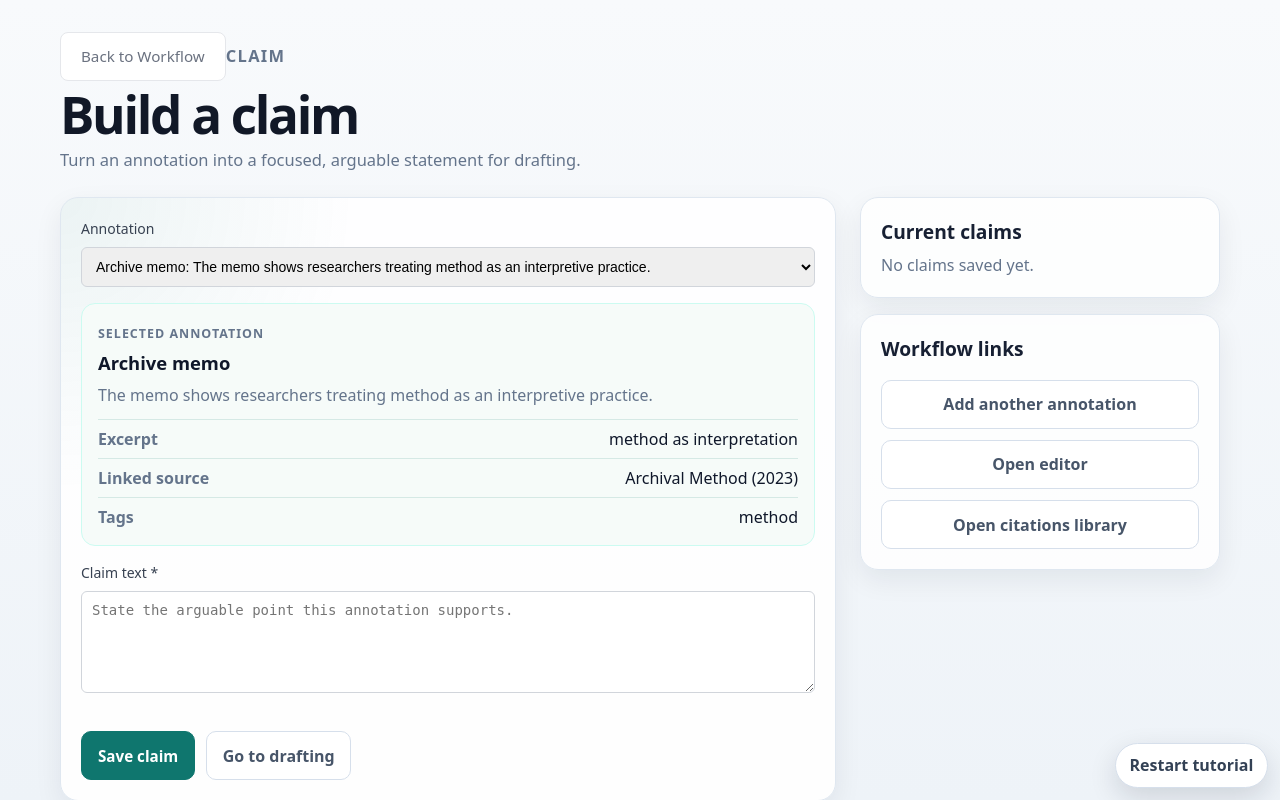
creates and persists a claim linked to an annotation
Type "Archival method depends on interpretation rather than neutral collection." into the text box labelled "Claim text *" at (448, 642), box [81, 592, 815, 694]
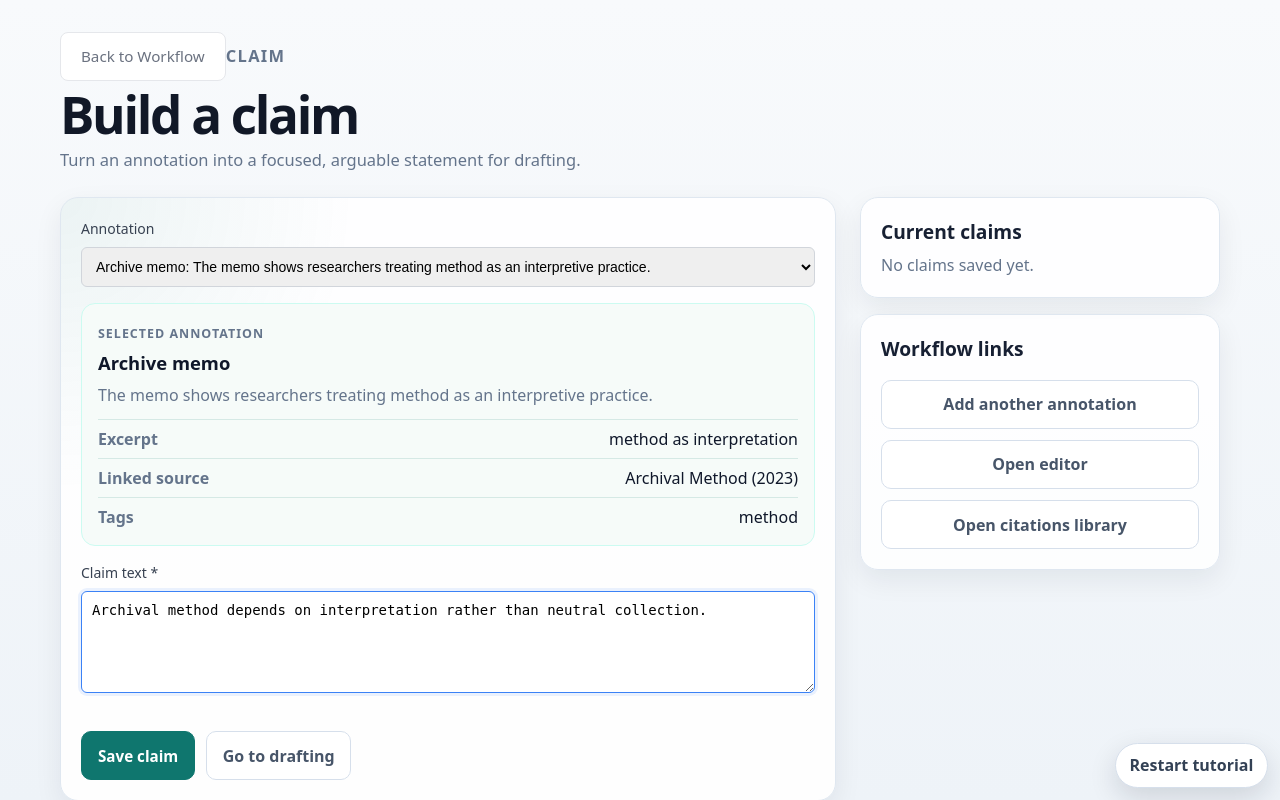
Click the button "Save claim" at (138, 756), box [81, 732, 195, 780]
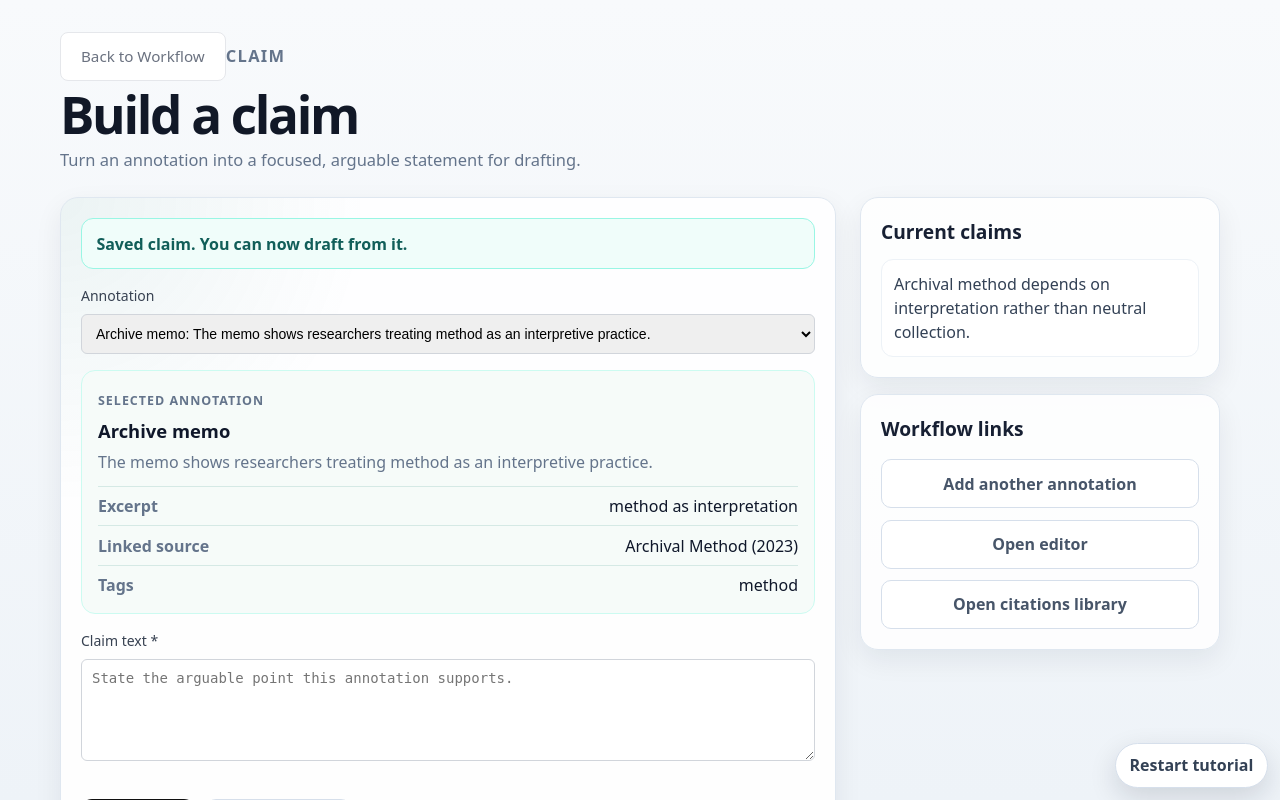
Expected: the message shows "Saved claim", [96, 232, 407, 254]
